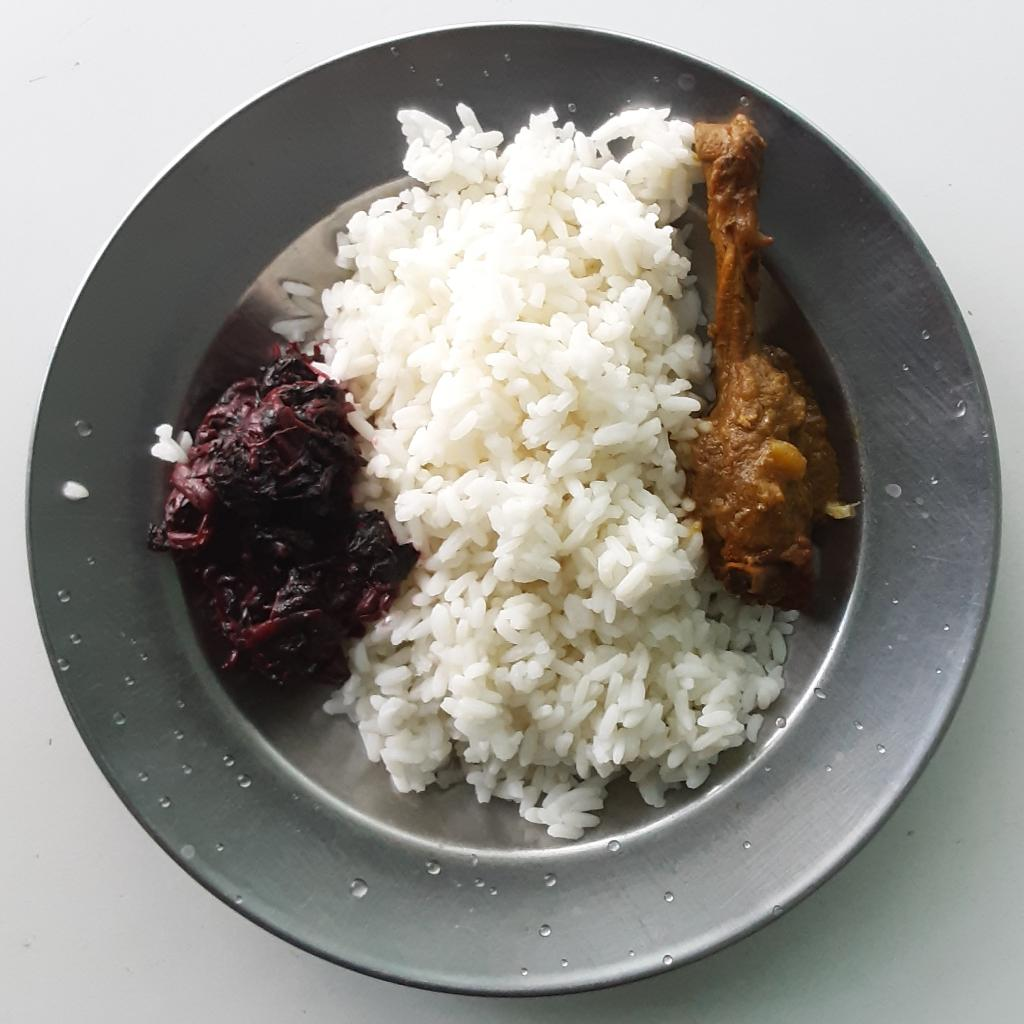beef: (689, 112, 845, 605)
lal-shak: (142, 332, 421, 684)
rice: (272, 106, 790, 841)
